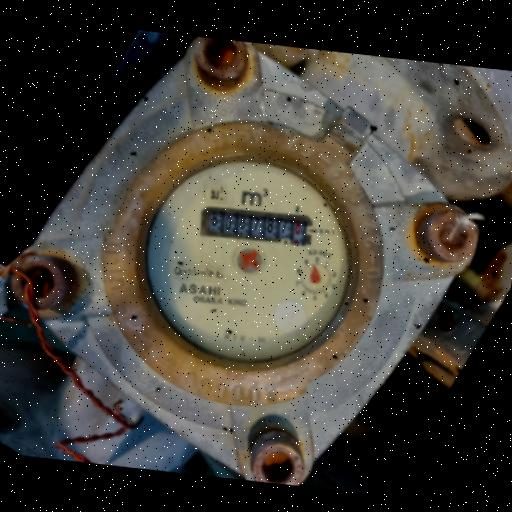0: (224, 212, 236, 233)
7: (251, 214, 263, 235), (279, 217, 291, 238)
8: (209, 211, 223, 232), (293, 219, 304, 245), (265, 215, 277, 237), (238, 213, 249, 235)
border_water_meter_number: (200, 203, 315, 248)
